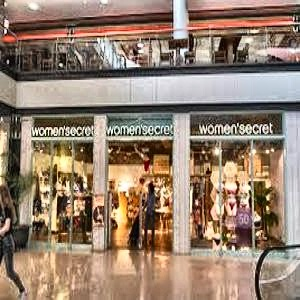women_secret: (102, 61, 300, 184), (123, 62, 229, 186), (81, 63, 113, 189)
